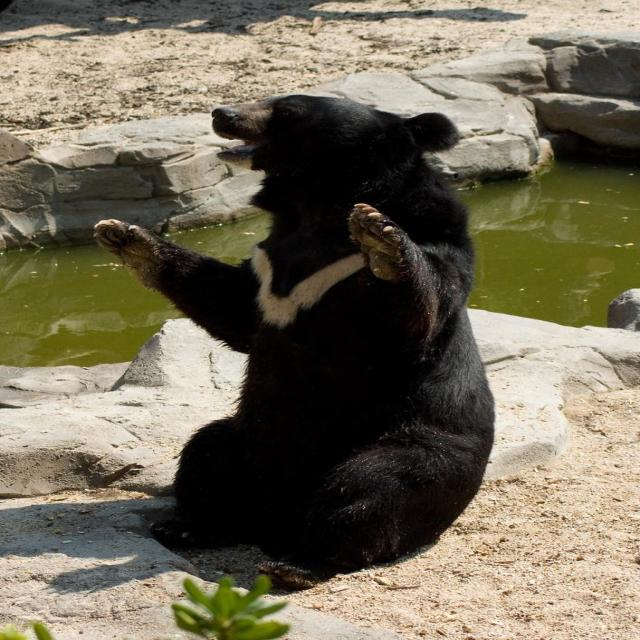Buffalo: (91, 91, 497, 588)
